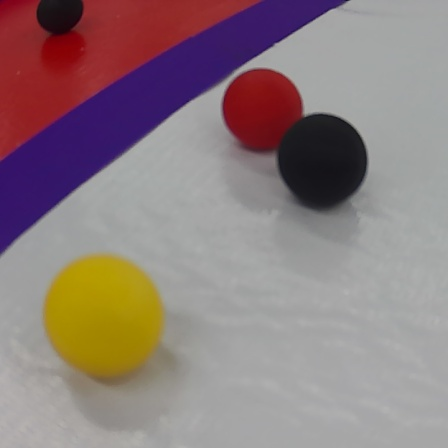black: (272, 109, 370, 218), (33, 0, 88, 37)
red: (217, 65, 309, 154)
red_aim: (0, 0, 356, 256)
yellow: (38, 259, 164, 378)
